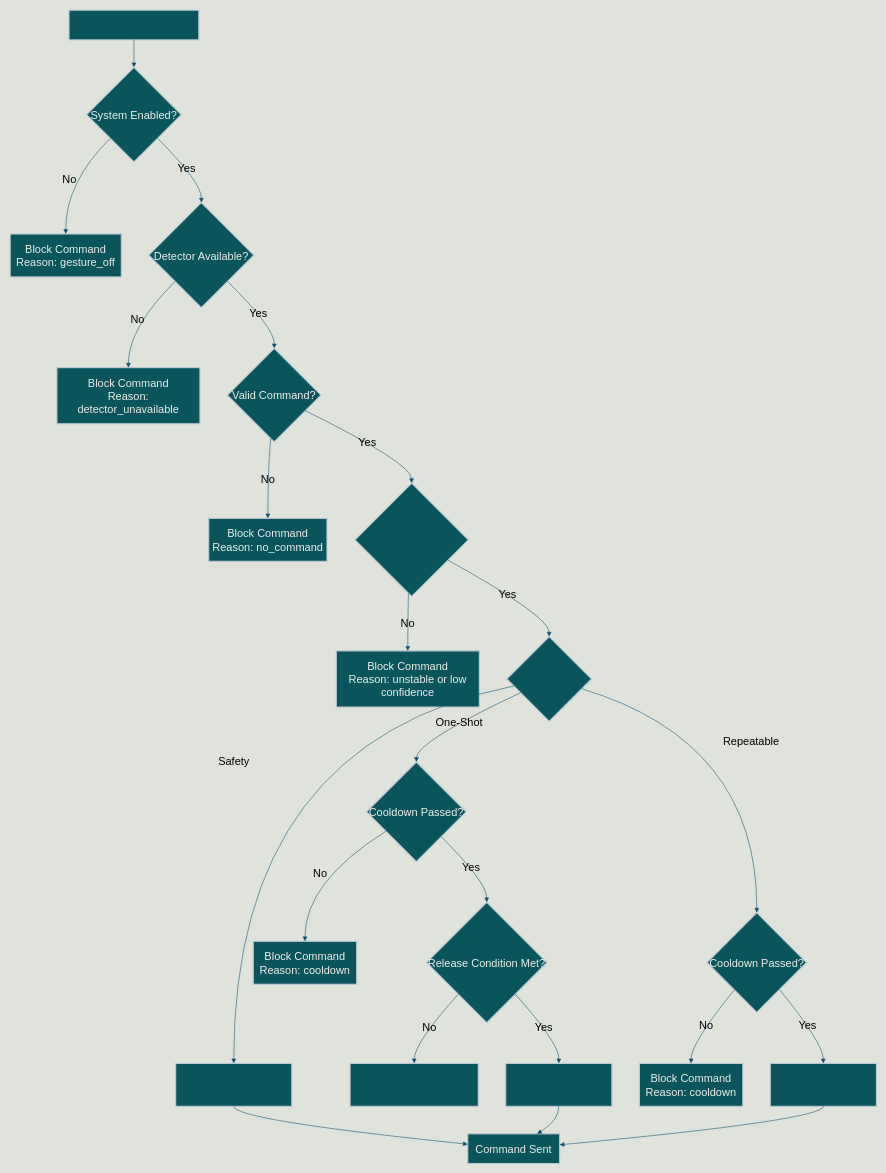
Some shapes in this 886 by 1173 pixel diagram are drawn without their labels. The shapes that lost their labels are listed below. From the top down, each one's centre as x and y in pixels, then its label:
At point 133,24: "Stable Gesture Detected".
At point 411,539: "Gesture Ready State?".
At point 549,679: "Behavior Type".
At point 233,1085: "Execute Immediately Override All".
At point 414,1085: "Block Command Reason: waiting_release".
At point 558,1085: "Execute Command Arm One-Shot".
At point 823,1085: "Execute Command Repeat Allowed".
